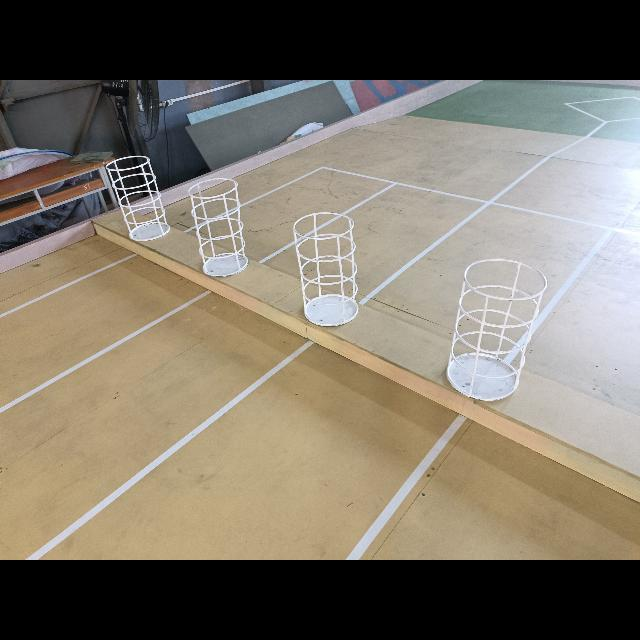S: (444, 257, 553, 405), (293, 209, 362, 329), (189, 175, 252, 280), (104, 154, 174, 243)
